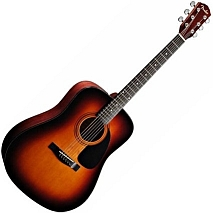guitar: (1, 1, 212, 213)
